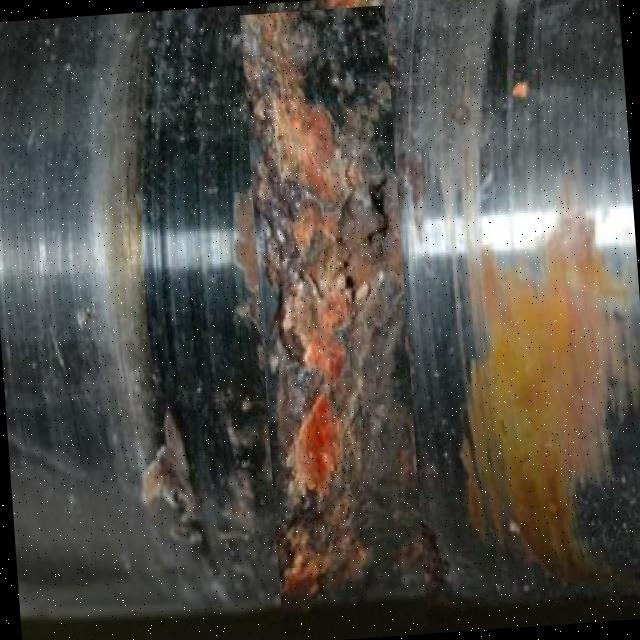Corrosion: (225, 0, 640, 622), (230, 0, 432, 615), (439, 159, 640, 593)
